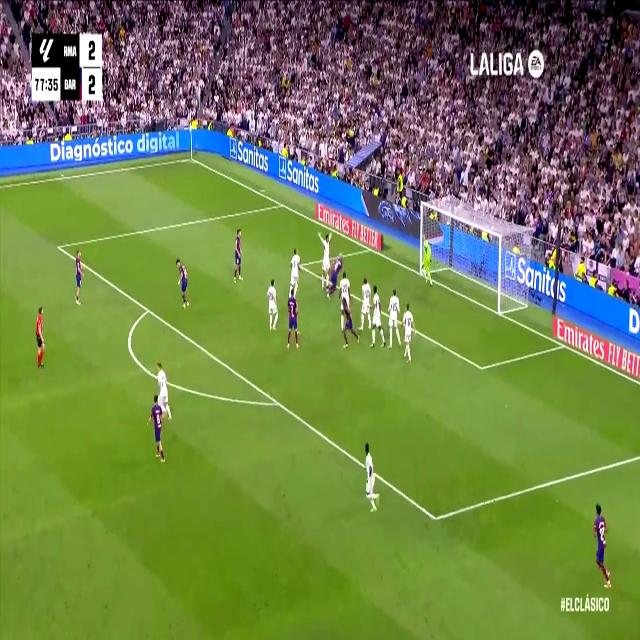bigarea_bottom_inner: (428, 500, 442, 535)
bigarea_top_inner: (55, 240, 62, 253)
bigarea_top_outter: (278, 197, 286, 210)
bottom_arc_area_intersection: (271, 389, 283, 414)
corner: (186, 151, 197, 165)
smallarea_bottom_inner: (477, 356, 487, 380)
smallarea_top_inner: (297, 258, 304, 272)
top_arc_area_intersection: (143, 300, 153, 318)
